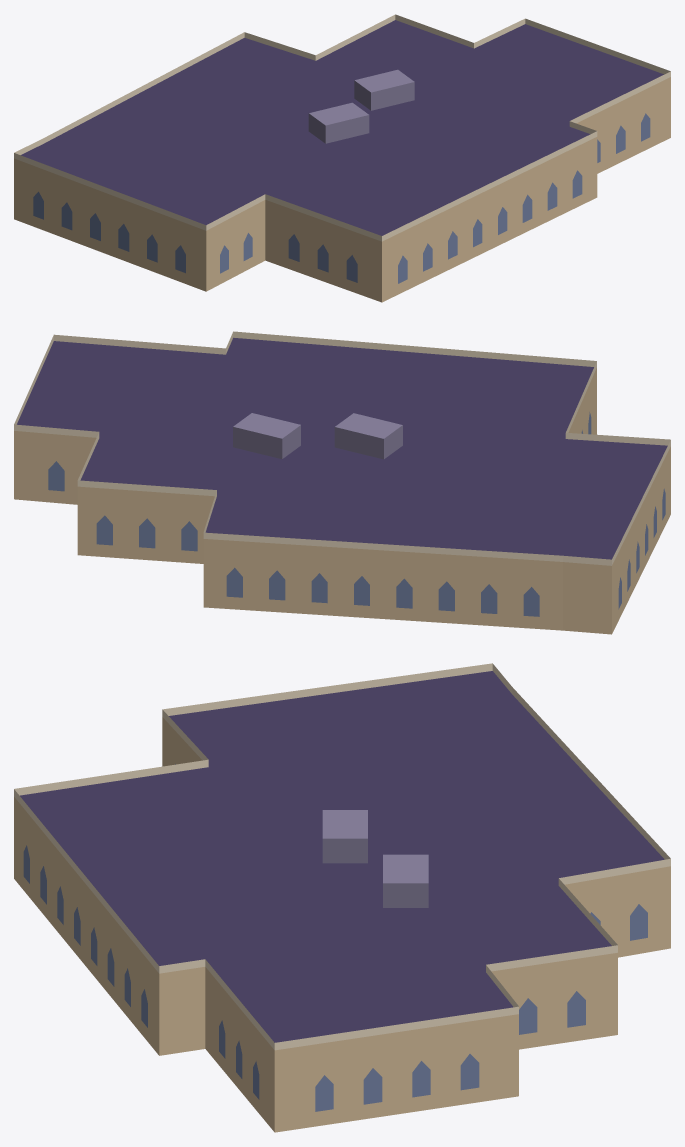
The model's file is b-011-huron-dining-hall-day.glb.
The picture shows the model from 3 angles, top to bottom: view 1: azimuth 30°, elevation 25°; view 2: azimuth 150°, elevation 25°; view 3: azimuth 270°, elevation 25°; orthographic projection. The views are drawn at different scales.
Visible parts, largest first — view 1: campus/b-011-huron-dining-hall-day-0; view 2: campus/b-011-huron-dining-hall-day-0; view 3: campus/b-011-huron-dining-hall-day-0.
Boxes of the visible parts, left/top/right/bottom form: campus/b-011-huron-dining-hall-day-0: left=14, top=14, right=670, bottom=302; campus/b-011-huron-dining-hall-day-0: left=14, top=331, right=670, bottom=634; campus/b-011-huron-dining-hall-day-0: left=14, top=663, right=670, bottom=1132.
Size of the model in its own units: 59.39 by 7.8 by 43.45.
